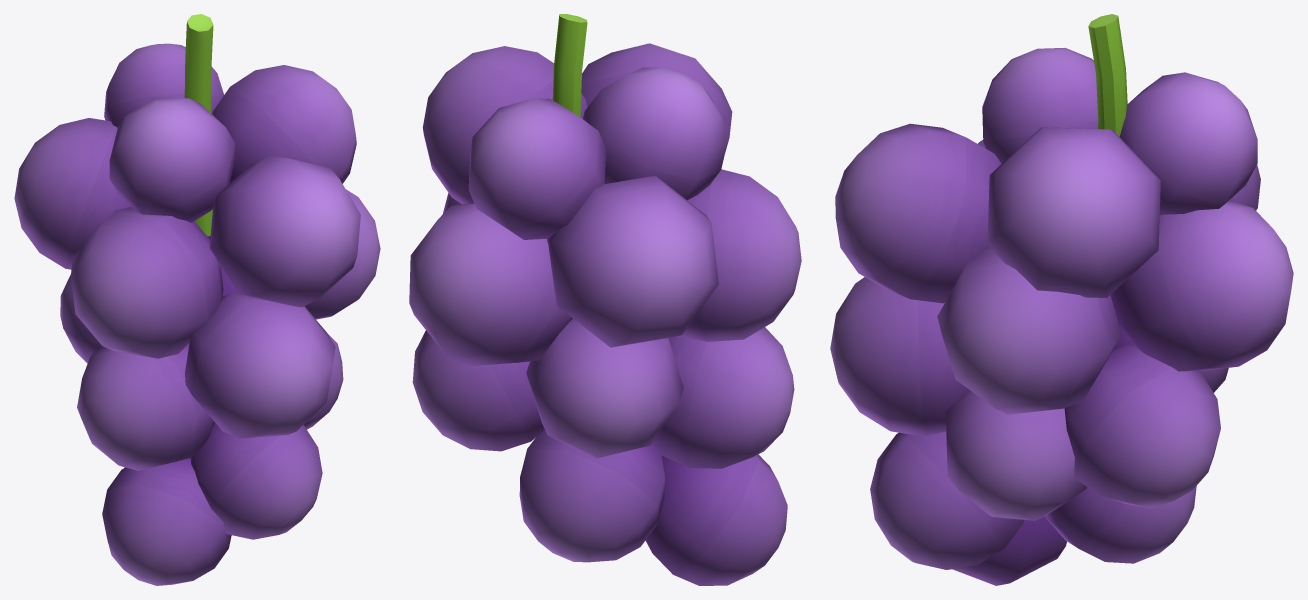
Rendered from ENV1810011.fbx.
The picture shows the model from 3 angles, left to right: view 1: azimuth 30°, elevation 25°; view 2: azimuth 150°, elevation 25°; view 3: azimuth 270°, elevation 25°; orthographic projection. The views are drawn at different scales.
Visible parts, largest first — view 1: smENV1810011; view 2: smENV1810011; view 3: smENV1810011.
Boxes of the visible parts, x1,y1,x2,y2 form: smENV1810011: (14,14,380,585); smENV1810011: (409,14,801,585); smENV1810011: (830,14,1293,585).
Size of the model in its own units: 7.18 by 11.87 by 8.24.
1 material, 1 textured.
